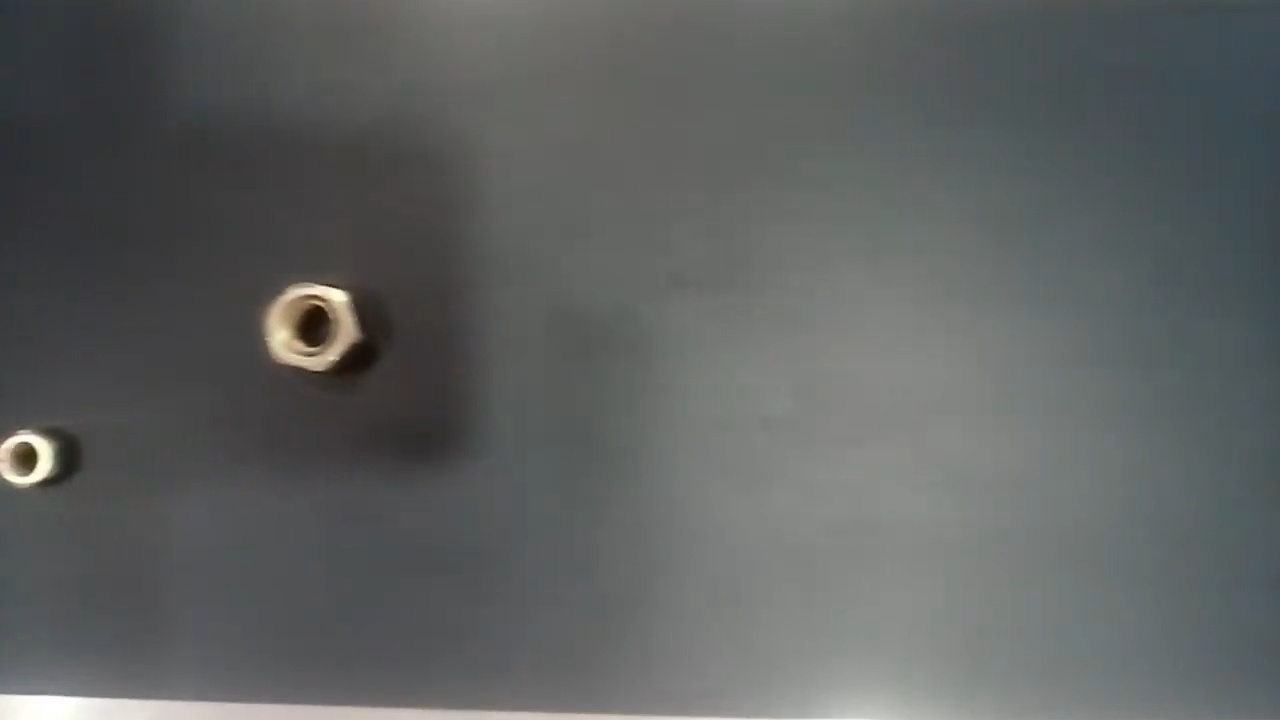Bolt: (260, 278, 381, 380), (1, 420, 90, 497)
